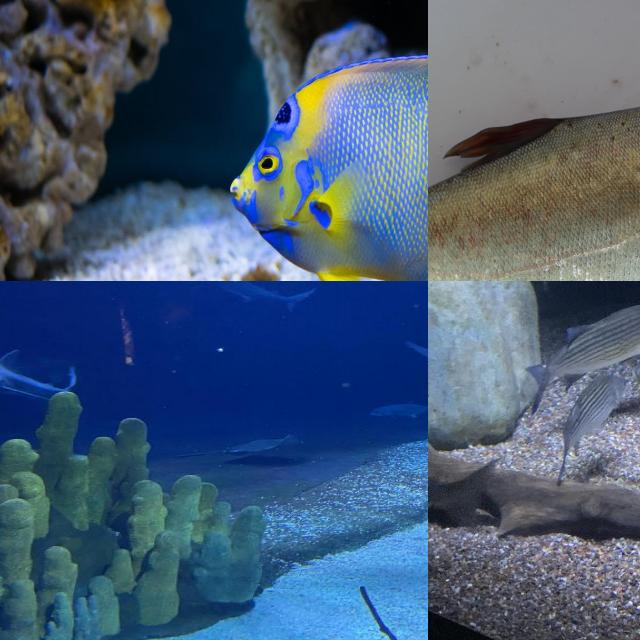fish: (0, 0, 428, 281), (428, 95, 640, 281)
